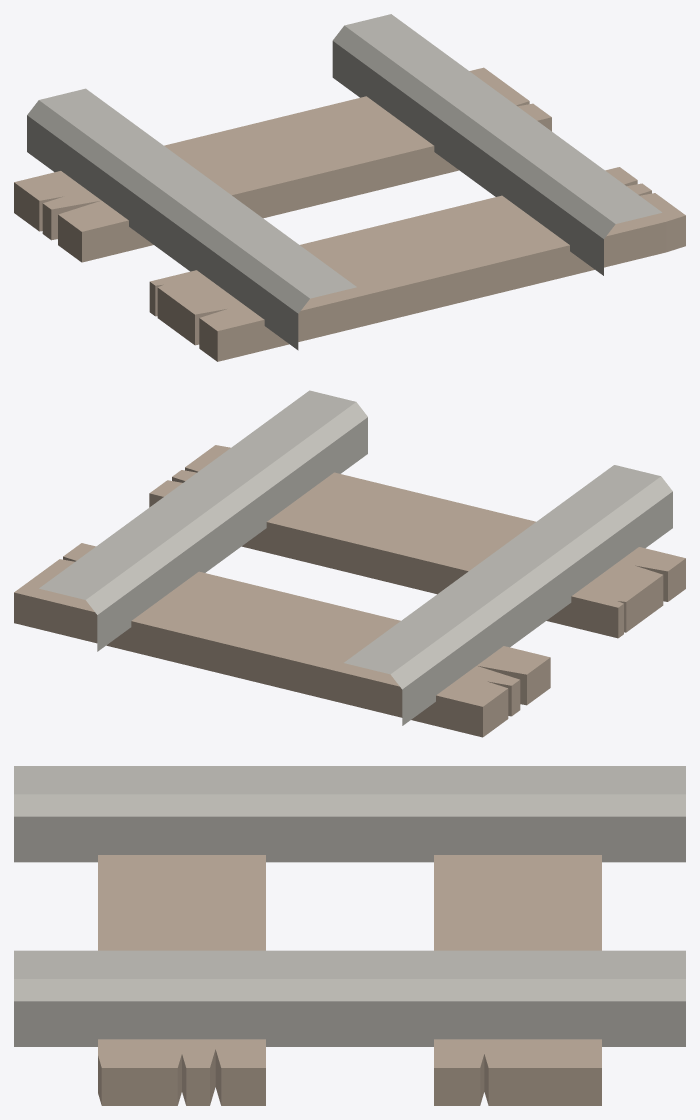
Rendered from Cave_Prop_Railway_Straight_4.glb.
3 renders of one model, top to bottom at view 1: azimuth 30°, elevation 25°; view 2: azimuth 150°, elevation 25°; view 3: azimuth 270°, elevation 25°, orthographic. The views are drawn at different scales.
Parts seen in each view (by area): view 1: Cave_Prop_Railway_Straight_4; view 2: Cave_Prop_Railway_Straight_4; view 3: Cave_Prop_Railway_Straight_4.
Part boxes in pixels (bbox=[...]): Cave_Prop_Railway_Straight_4: bbox=[14, 14, 685, 361]; Cave_Prop_Railway_Straight_4: bbox=[14, 390, 685, 737]; Cave_Prop_Railway_Straight_4: bbox=[14, 766, 685, 1105].
Bounding box in the file's own units: 1 × 0.15 × 1.
